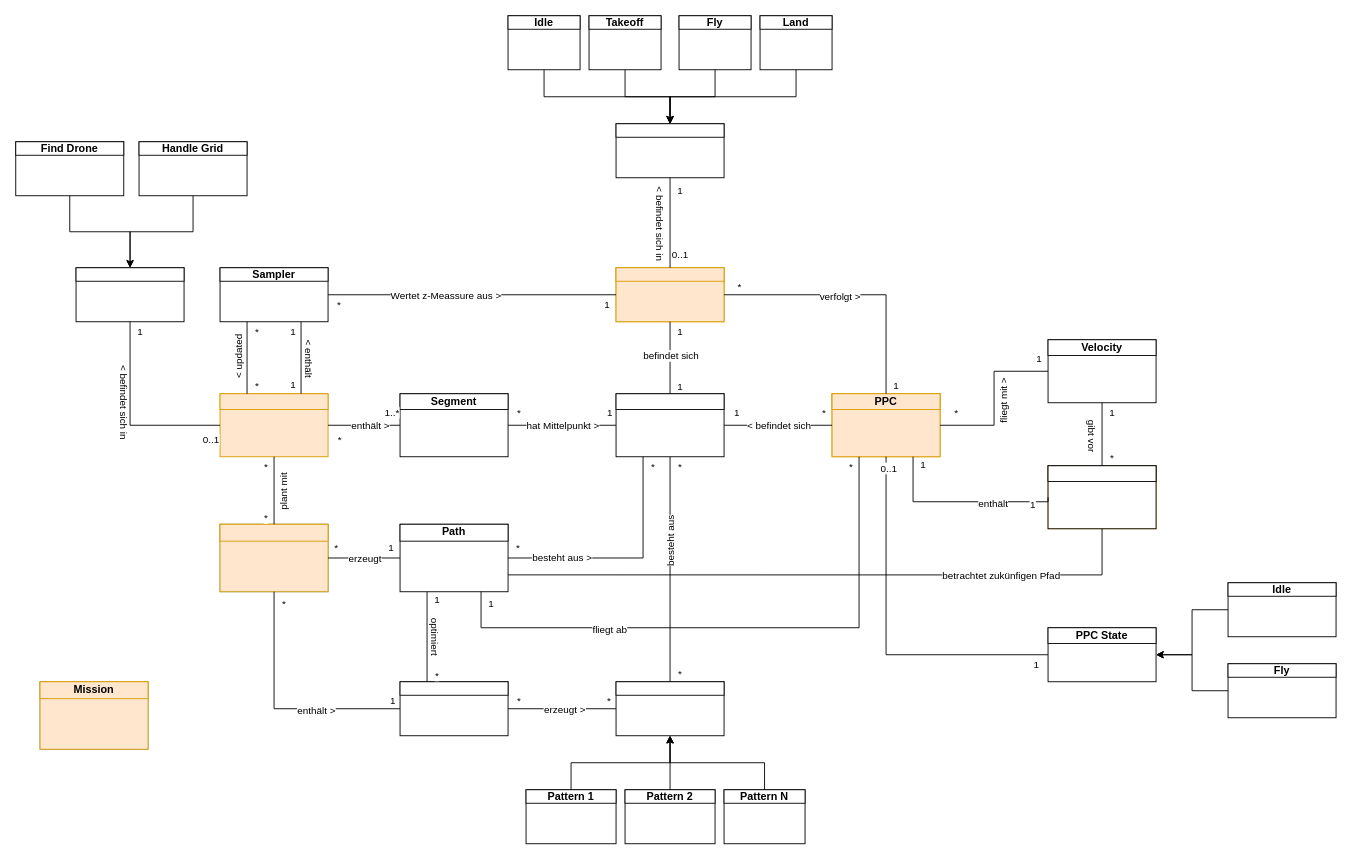
Image size: 1352x860. Some labels were removed from this diagram. Each missing label, with the box of its shape:
Drone: (615, 267, 724, 281)
Drone State: (615, 123, 724, 137)
Grid: (219, 393, 328, 410)
Grid State: (75, 267, 184, 281)
Pathplanner: (219, 523, 328, 541)
Position: (615, 393, 724, 410)
Trajectory Optimizer: (399, 681, 508, 695)
Trajectory Patterns: (615, 681, 724, 695)
Velocity Planner: (1047, 465, 1156, 482)
